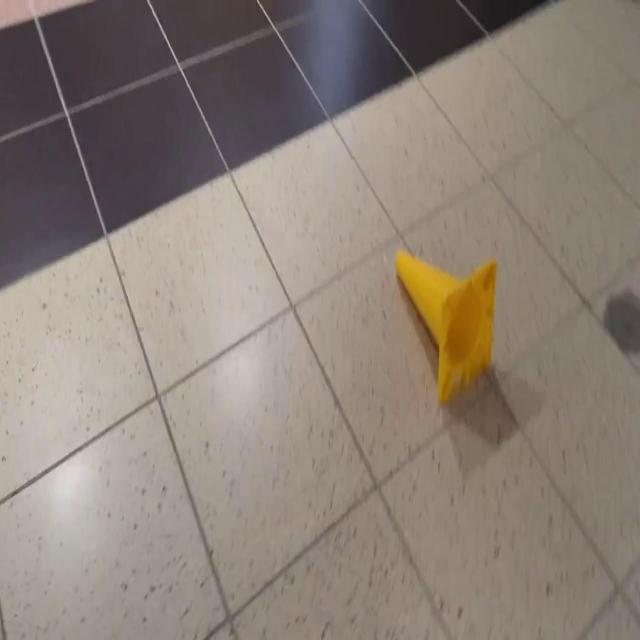frc_cone: (396, 248, 498, 401)
